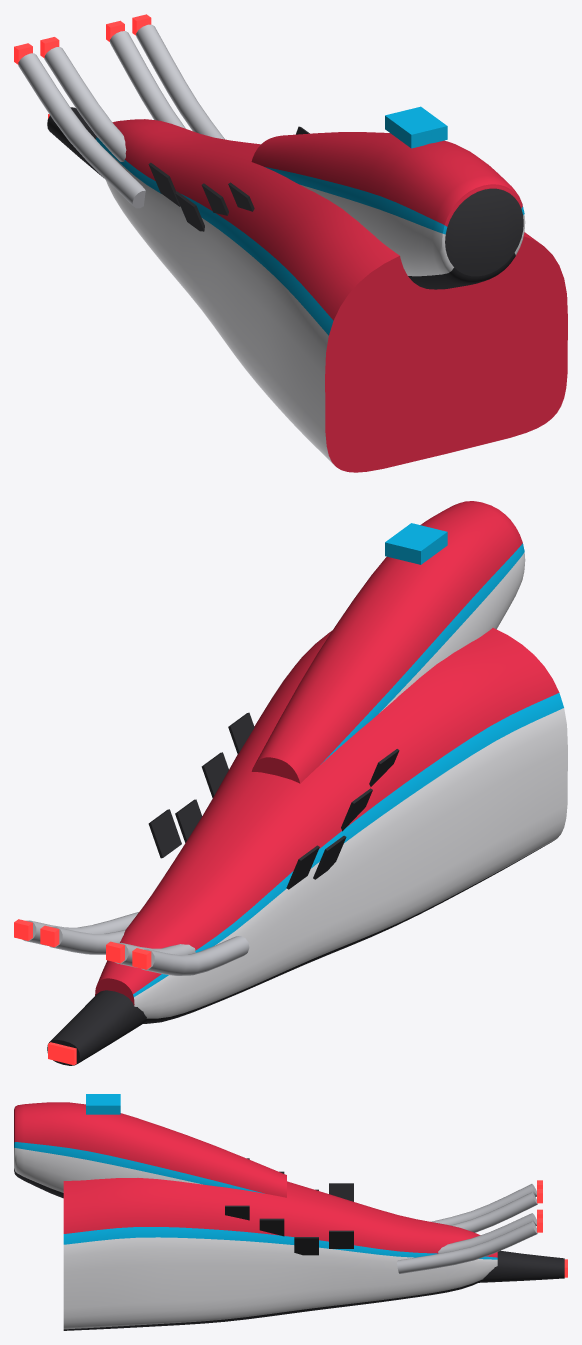
Rendered from exhaust.glb.
The picture shows the model from 3 angles, top to bottom: view 1: azimuth 30°, elevation 25°; view 2: azimuth 150°, elevation 25°; view 3: azimuth 270°, elevation 25°; orthographic projection. The views are drawn at different scales.
Parts seen in each view (by area): view 1: EngineCover_exhaust; view 2: EngineCover_exhaust; view 3: EngineCover_exhaust.
Boxes of the visible parts, x1,y1,x2,y2 form: EngineCover_exhaust: [14, 14, 567, 472]; EngineCover_exhaust: [14, 501, 567, 1065]; EngineCover_exhaust: [14, 1094, 567, 1330].
Size of the model in its own units: 0.74 by 0.9064 by 2.23.
